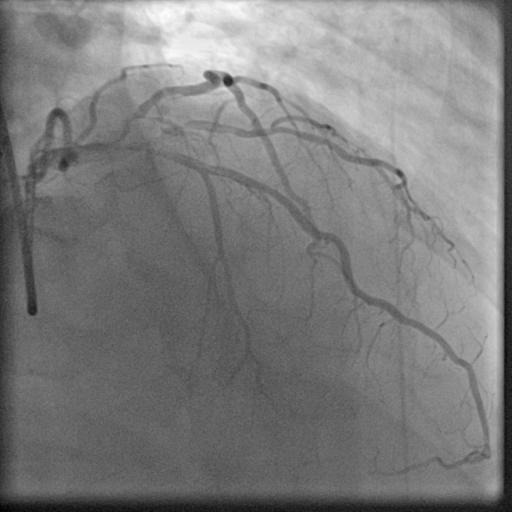Stenosis: (115, 109, 140, 140)
